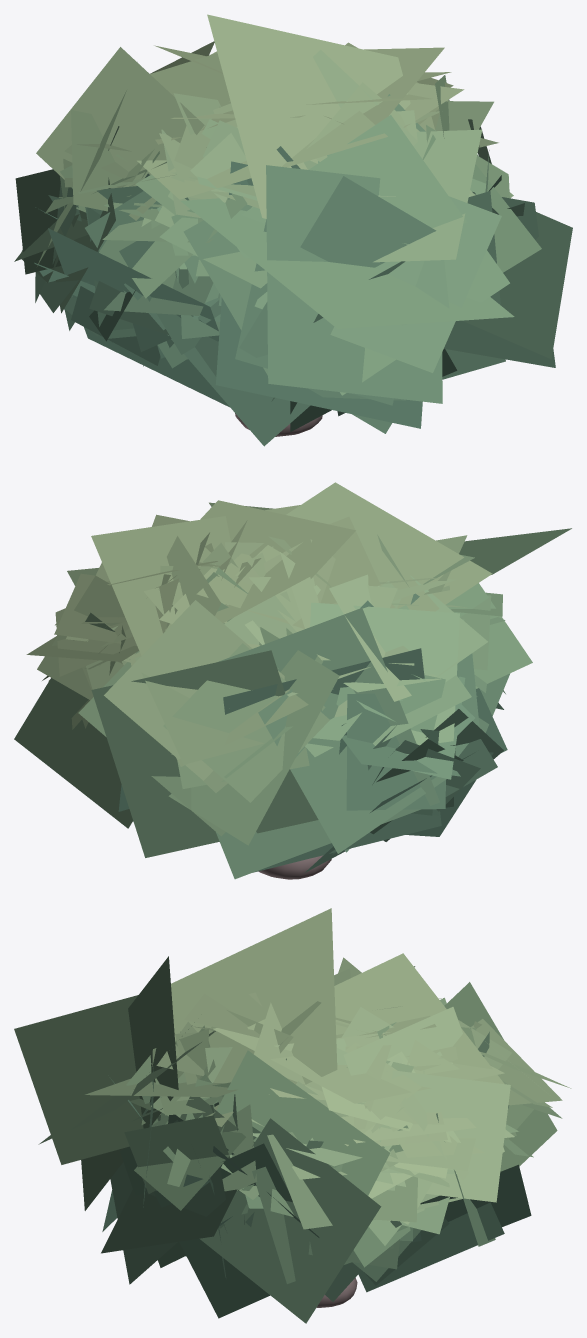
Rendered from ancient_oak_v0.glb.
3 renders of one model, top to bottom at view 1: azimuth 30°, elevation 25°; view 2: azimuth 150°, elevation 25°; view 3: azimuth 270°, elevation 25°, orthographic. The views are drawn at different scales.
Parts seen in each view (by area): view 1: far, near; view 2: far, near; view 3: far, near.
Boxes of the visible parts, x1=… form: far: x1=22, y1=14, x2=572, y2=446; near: x1=14, y1=41, x2=541, y2=436; far: x1=14, y1=482, x2=571, y2=879; near: x1=26, y1=514, x2=532, y2=879; far: x1=14, y1=908, x2=557, y2=1323; near: x1=120, y1=957, x2=571, y2=1307.
Size of the model in its own units: 21.77 by 18.68 by 25.94.
